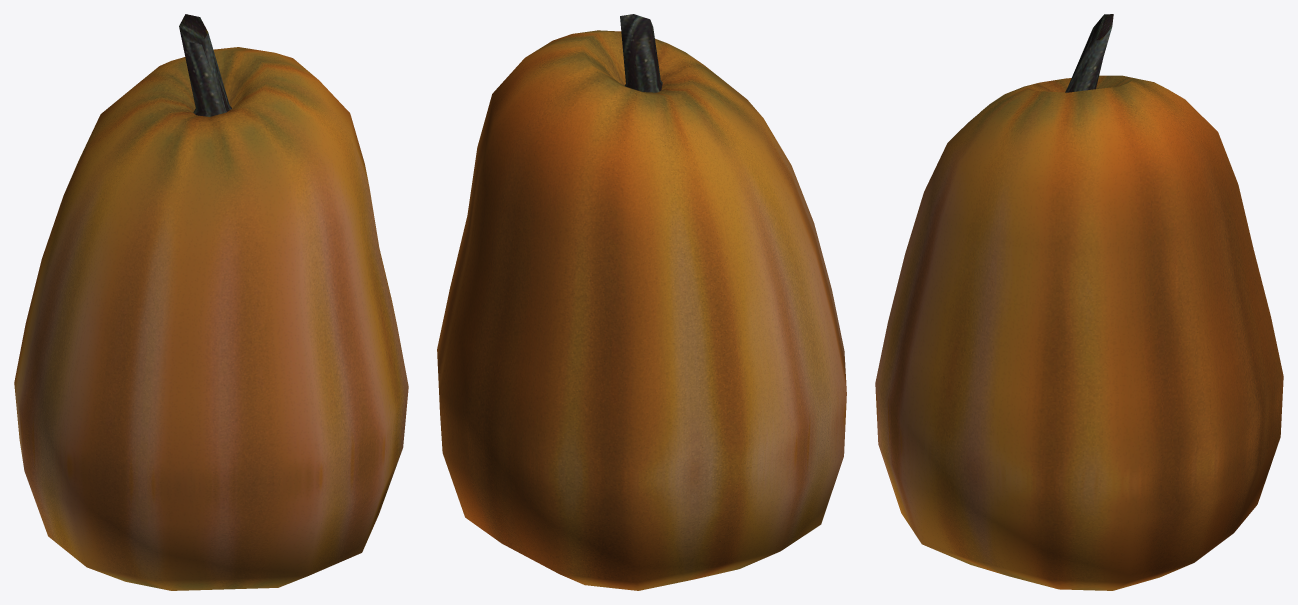
File: pumpkin_long.fbx
The picture shows the model from 3 angles, left to right: view 1: azimuth 30°, elevation 25°; view 2: azimuth 150°, elevation 25°; view 3: azimuth 270°, elevation 25°; orthographic projection. The views are drawn at different scales.
Parts seen in each view (by area): view 1: pumpkin_long; view 2: pumpkin_long; view 3: pumpkin_long.
Part boxes in pixels (x1,y1,x2,y2): pumpkin_long: [14, 14, 408, 590]; pumpkin_long: [437, 14, 846, 590]; pumpkin_long: [875, 14, 1283, 590].
Bounding box in the file's own units: 1.62 × 2.36 × 1.67.
